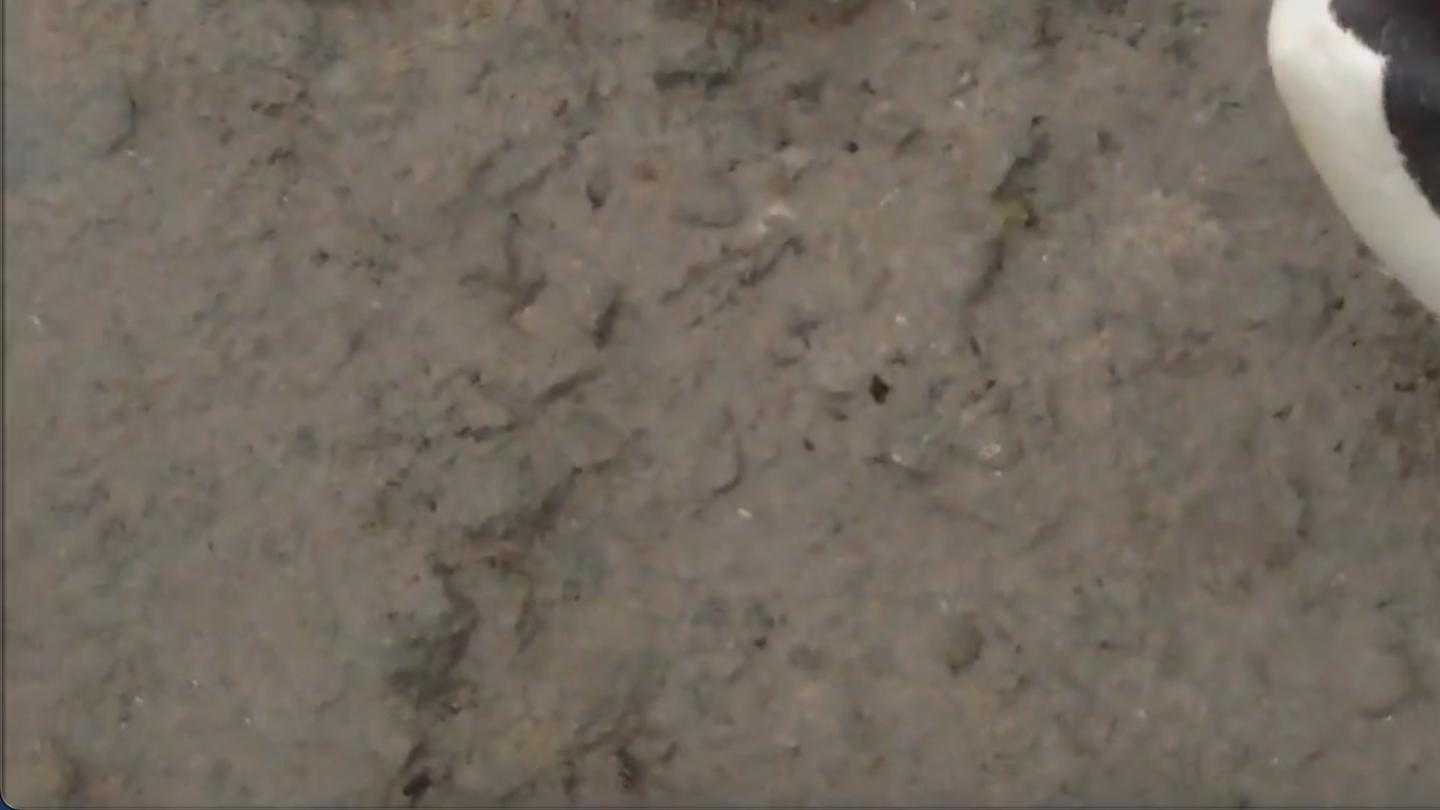Chinstrap Penguin: (1061, 0, 1440, 500)
